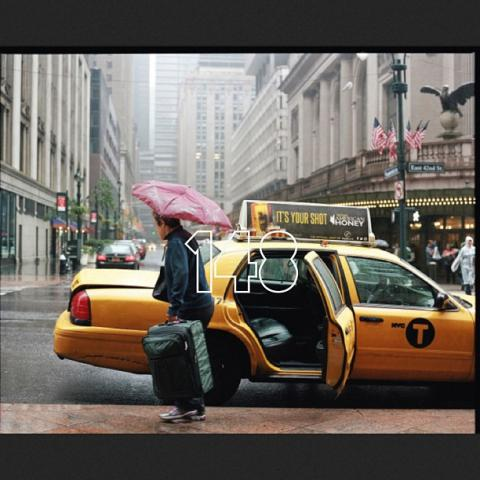car: (53, 244, 476, 404), (96, 243, 141, 268), (130, 242, 146, 259)
